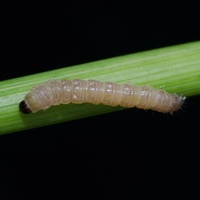insect: (19, 79, 184, 113)
